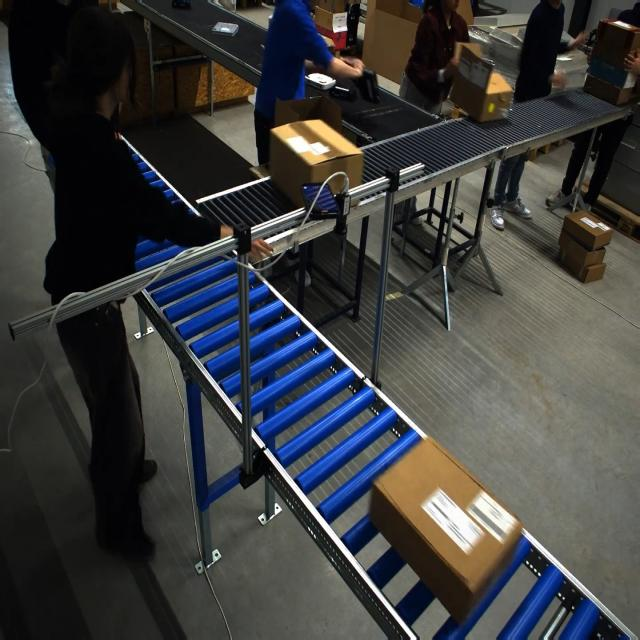box: (372, 440, 518, 623), (269, 120, 352, 211), (447, 40, 513, 122)
product: (305, 72, 335, 91), (329, 83, 355, 100), (211, 22, 239, 37)
